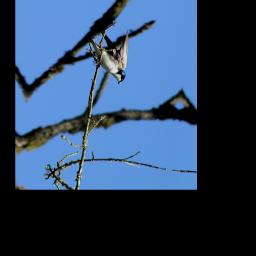Swallow: (80, 24, 134, 86)
